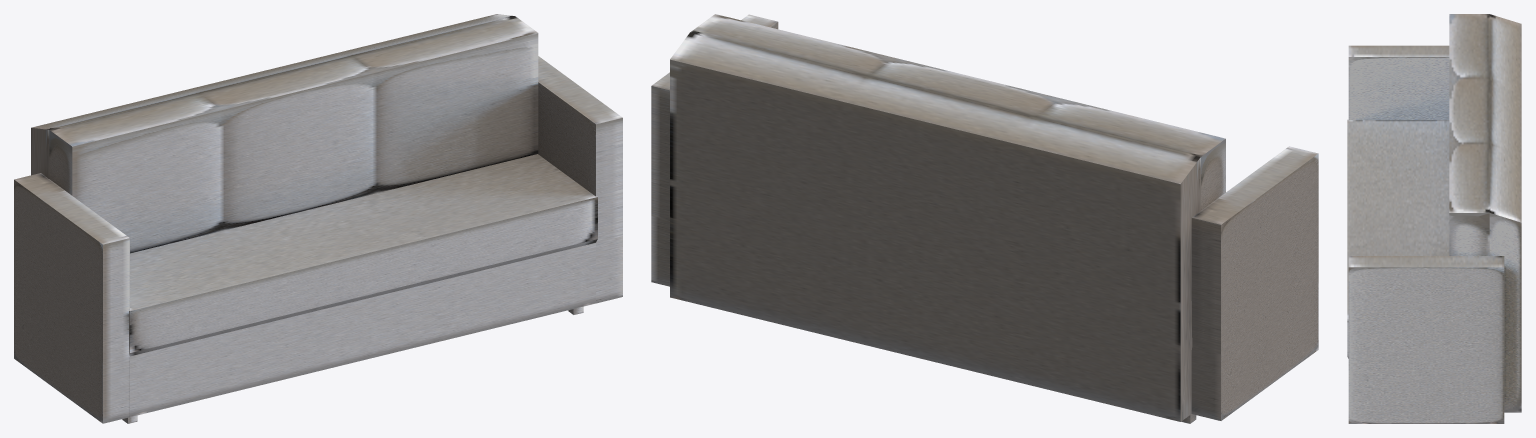
Rendered from couch1.fbx.
3 views of the same model, side by side, from view 1: azimuth 30°, elevation 25°; view 2: azimuth 150°, elevation 25°; view 3: azimuth 270°, elevation 25° (orthographic). The views are drawn at different scales.
Parts seen in each view (by area): view 1: couch1low; view 2: couch1low; view 3: couch1low.
Boxes of the visible parts, box(x1,y1,x2,y2) form: couch1low: box(14, 14, 622, 423); couch1low: box(651, 14, 1318, 423); couch1low: box(1347, 14, 1521, 423).
Size of the model in its own units: 1.94 by 0.644 by 0.8589.
Materials: 1 (1 with a texture image).
